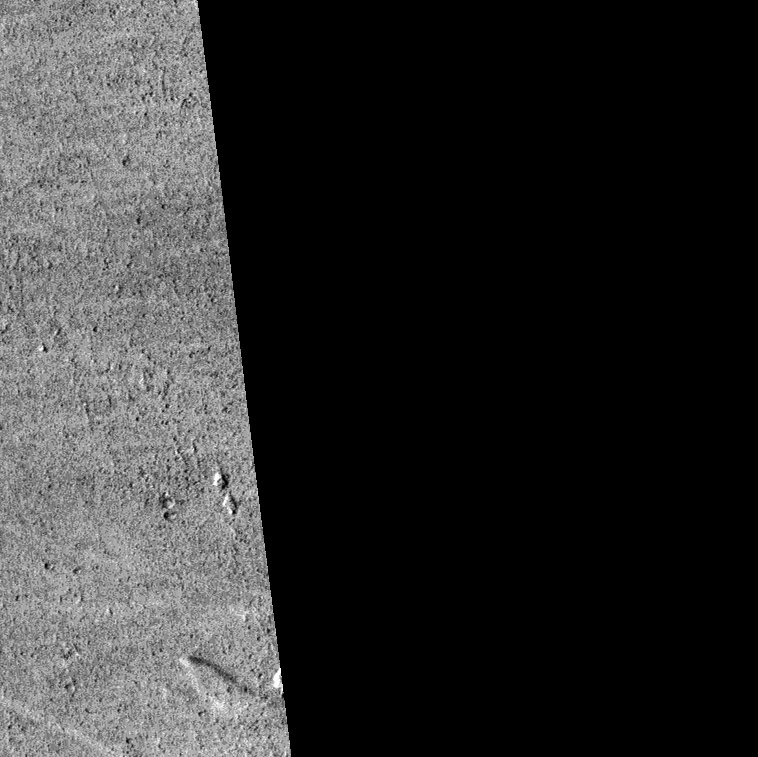dust_devil: (175, 653, 277, 715)
